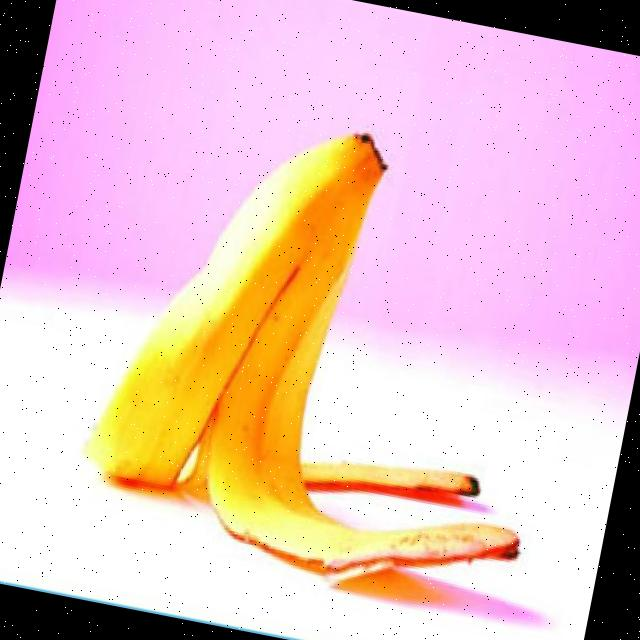banana-peel: (68, 88, 593, 615), (78, 89, 395, 528)
